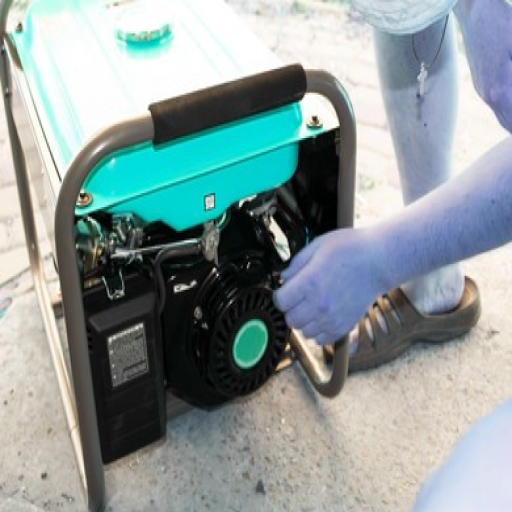portable_generator: (1, 1, 358, 506)
